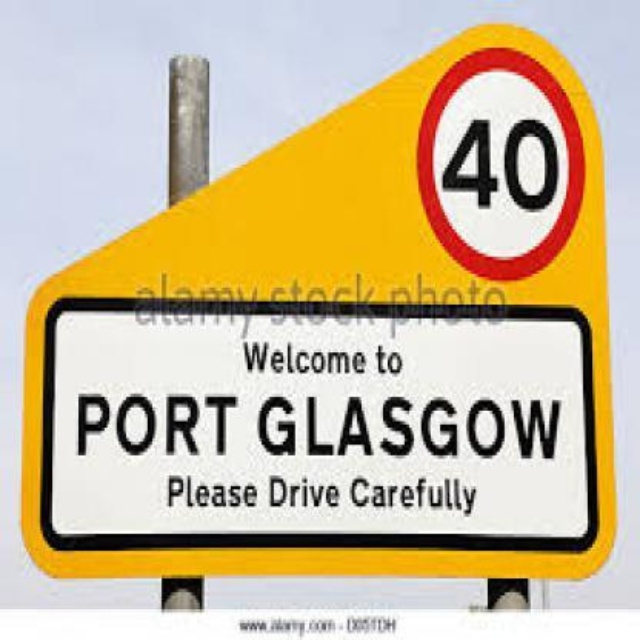Tốc độ tối đa cho phép 10km/h: (422, 50, 584, 276)
